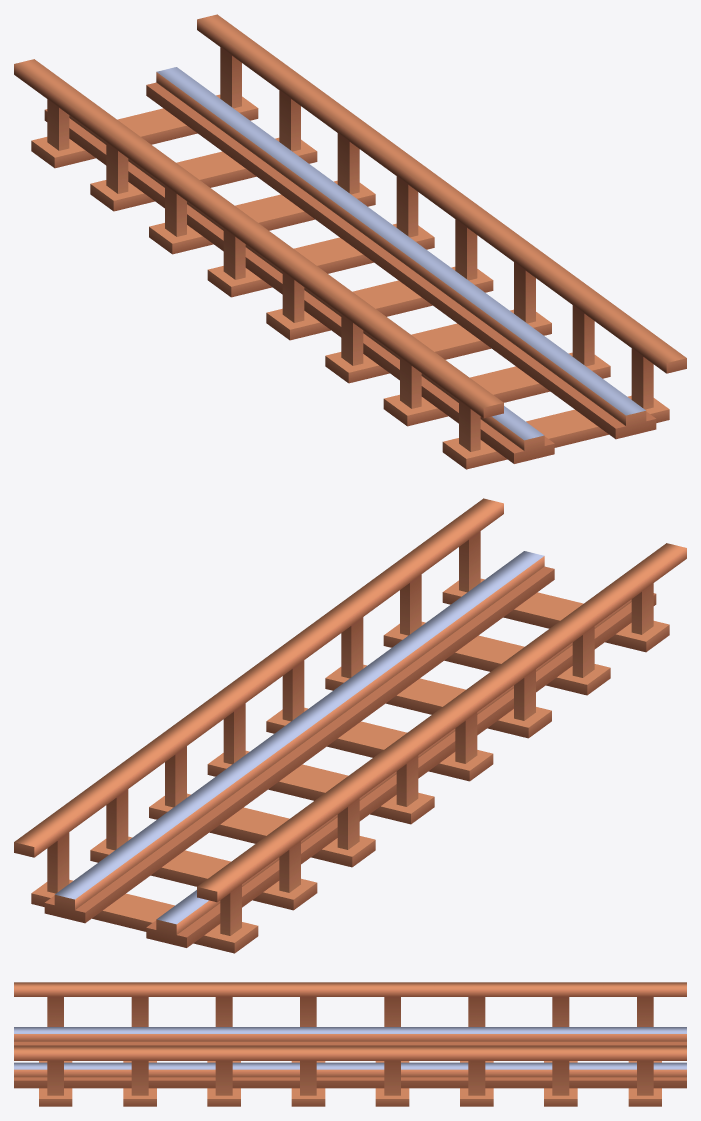
Rendered from coaster-wood-straight.glb.
The picture shows the model from 3 angles, top to bottom: view 1: azimuth 30°, elevation 25°; view 2: azimuth 150°, elevation 25°; view 3: azimuth 270°, elevation 25°; orthographic projection. The views are drawn at different scales.
Visible parts, largest first — view 1: coaster-wood-straight; view 2: coaster-wood-straight; view 3: coaster-wood-straight.
Boxes of the visible parts, box(x1,y1,x2,y2) form: coaster-wood-straight: box(14, 14, 686, 469); coaster-wood-straight: box(14, 498, 686, 953); coaster-wood-straight: box(14, 982, 686, 1106).
Bounding box in the file's own units: 1 × 0.3501 × 4.
Materials: 1 (1 with a texture image).
